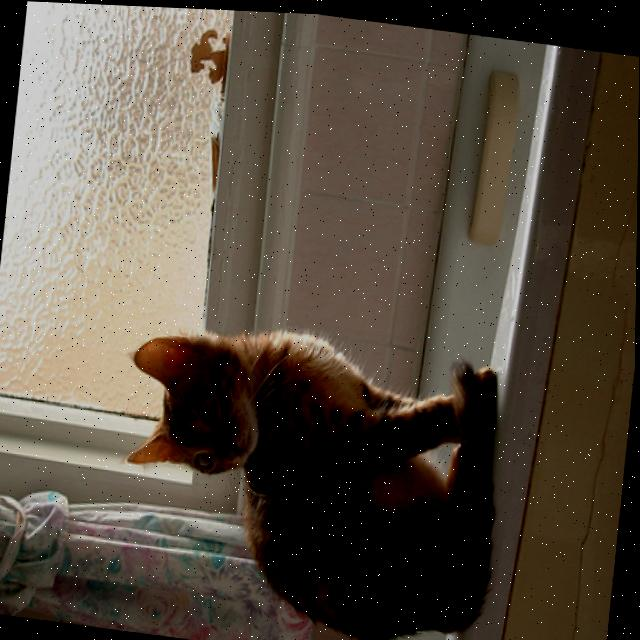Bengal: (89, 274, 520, 640)
